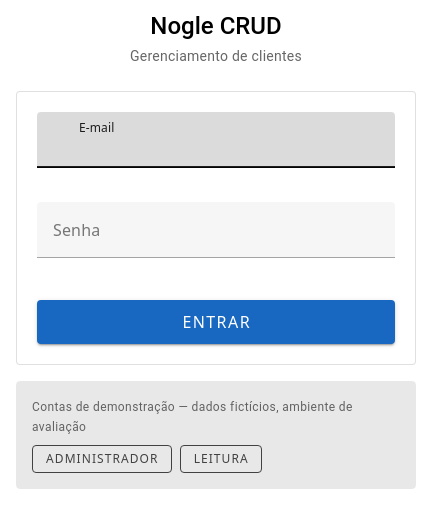
it: validação › aponta cada campo faltante
Click the button "Entrar" at (216,322), box top-left (37, 300), bottom-right (395, 344)
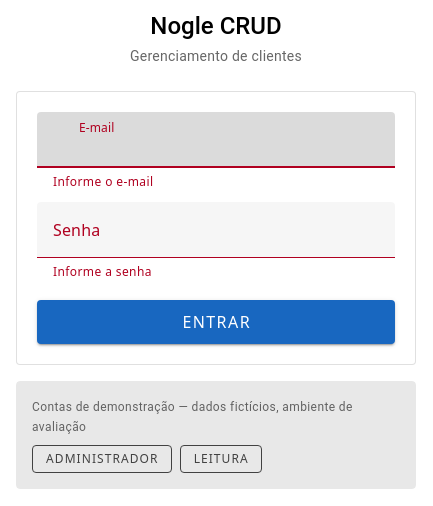
Check: the text "Informe o e-mail" is shown, box top-left (53, 173), bottom-right (154, 190)
Check: the text "Informe a senha" is shown, box top-left (53, 263), bottom-right (152, 280)
